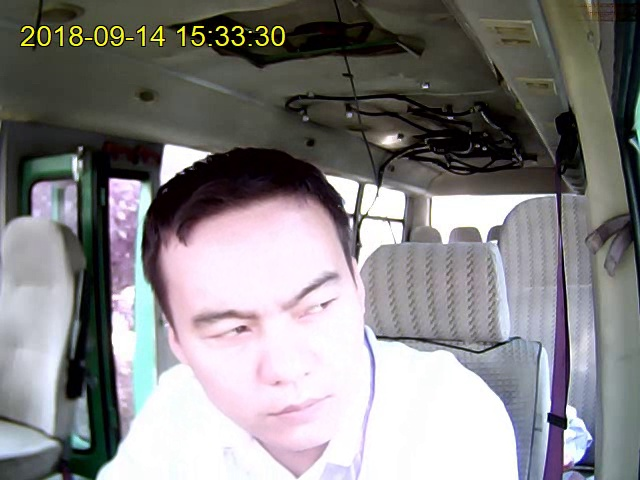closed_mouth: (263, 394, 328, 422)
open_eye: (200, 322, 250, 342), (297, 295, 335, 317)
